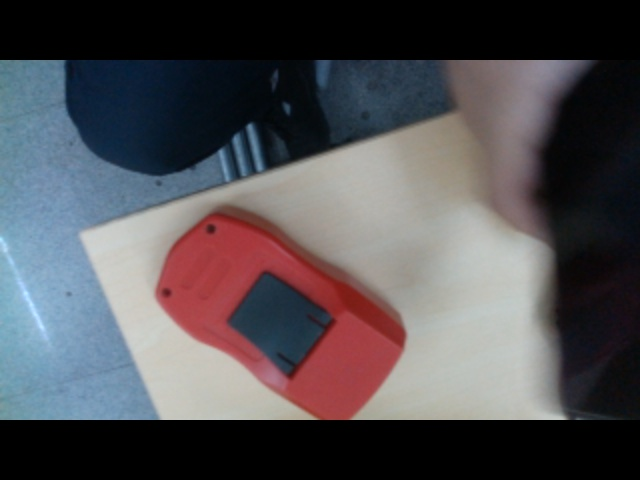Multimeter: (153, 206, 408, 418)
Screw holes: (206, 220, 219, 236), (160, 286, 172, 299)
